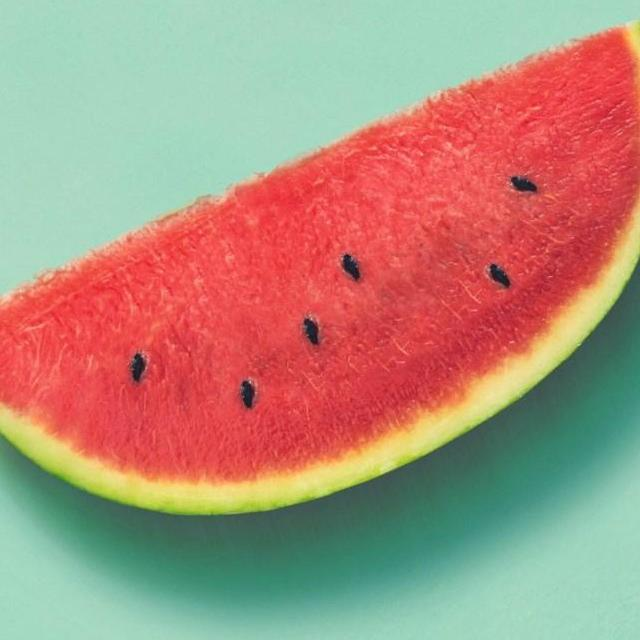watermelon: (0, 29, 640, 536)
